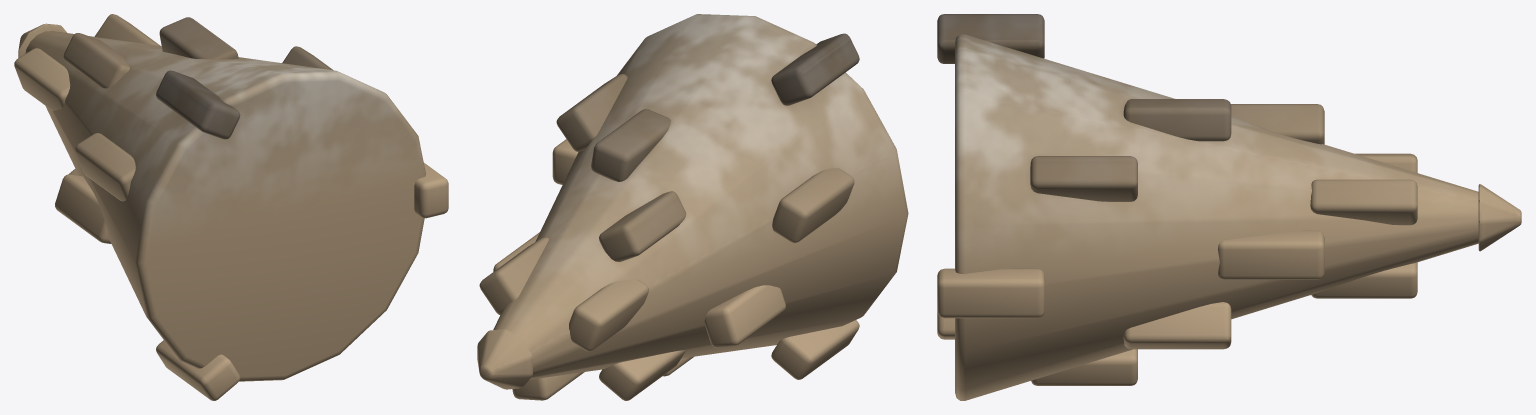
The model's file is driller_bit.glb.
3 renders of one model, left to right at view 1: azimuth 30°, elevation 25°; view 2: azimuth 150°, elevation 25°; view 3: azimuth 270°, elevation 25°, orthographic. The views are drawn at different scales.
Parts seen in each view (by area): view 1: DrillerBit; view 2: DrillerBit; view 3: DrillerBit.
Boxes of the visible parts, left/top/right/bottom form: DrillerBit: left=14, top=14, right=448, bottom=400; DrillerBit: left=477, top=14, right=908, bottom=400; DrillerBit: left=937, top=14, right=1521, bottom=400.
Bounding box in the file's own units: 1.06 × 1.02 × 1.63.
1 material, 1 textured.
